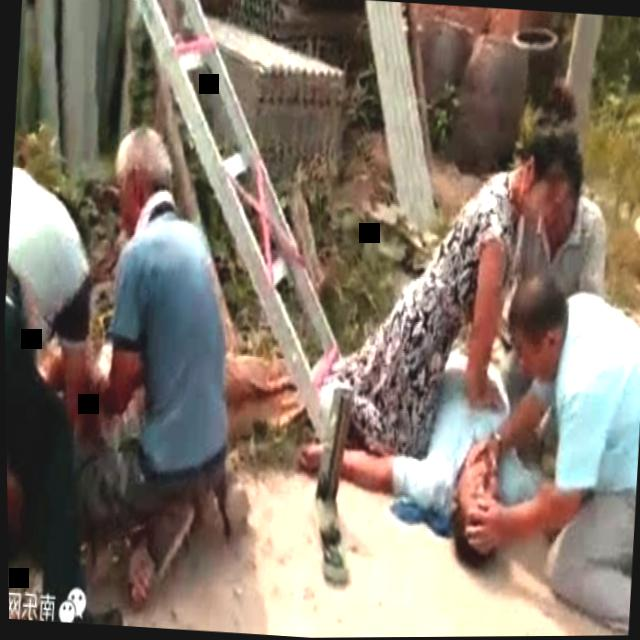Fall-Detected: (297, 322, 556, 560)
